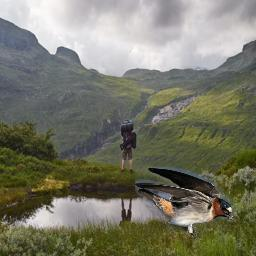Swallow: (135, 167, 233, 241)
